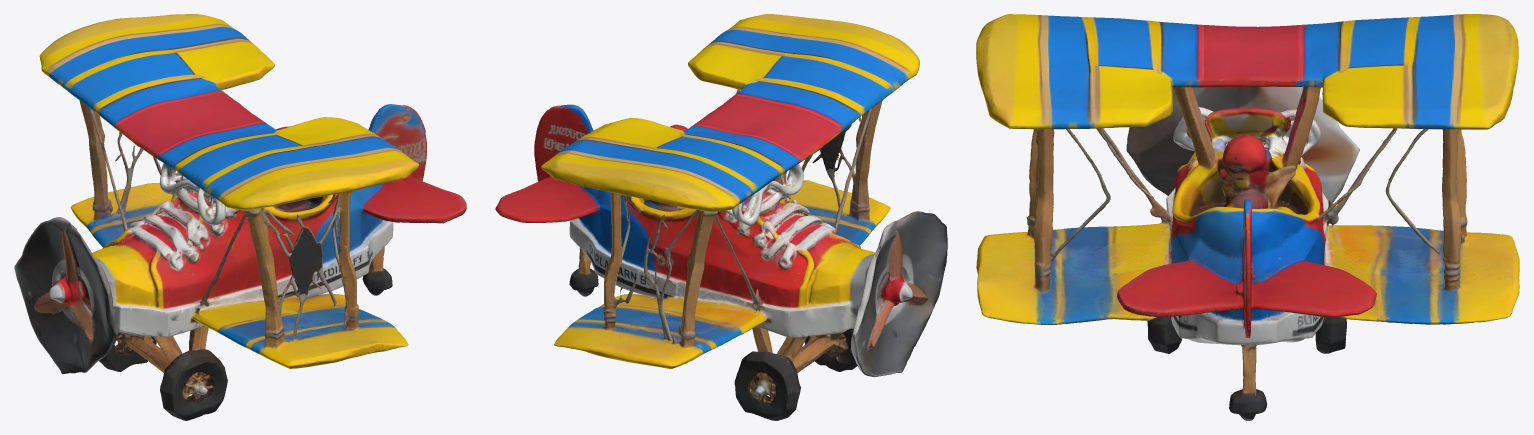
The model's file is Meshy_AI_Shoe_Bip_0402164732_texture.glb.
3 views of the same model, side by side, from view 1: azimuth 30°, elevation 25°; view 2: azimuth 150°, elevation 25°; view 3: azimuth 270°, elevation 25° (orthographic). The views are drawn at different scales.
Bounding box in the file's own units: 1.93 × 1.37 × 2.
1 material, 1 textured.
